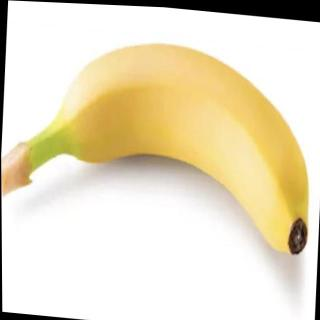banana: (53, 28, 319, 258)
